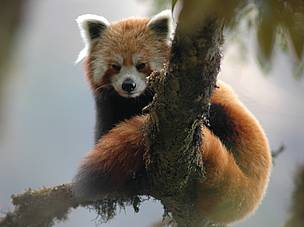red_panda: (73, 14, 270, 218)
